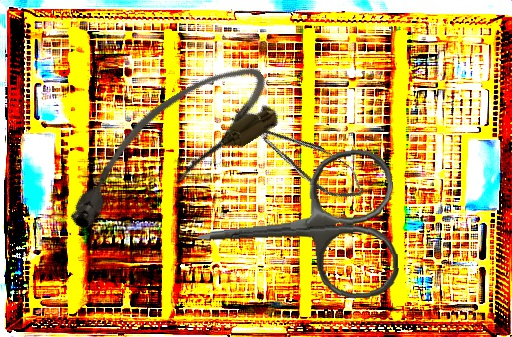Cannula: (44, 50, 290, 244)
Iris Scissors: (191, 146, 401, 311)
Micro Scissor: (224, 95, 372, 211)
